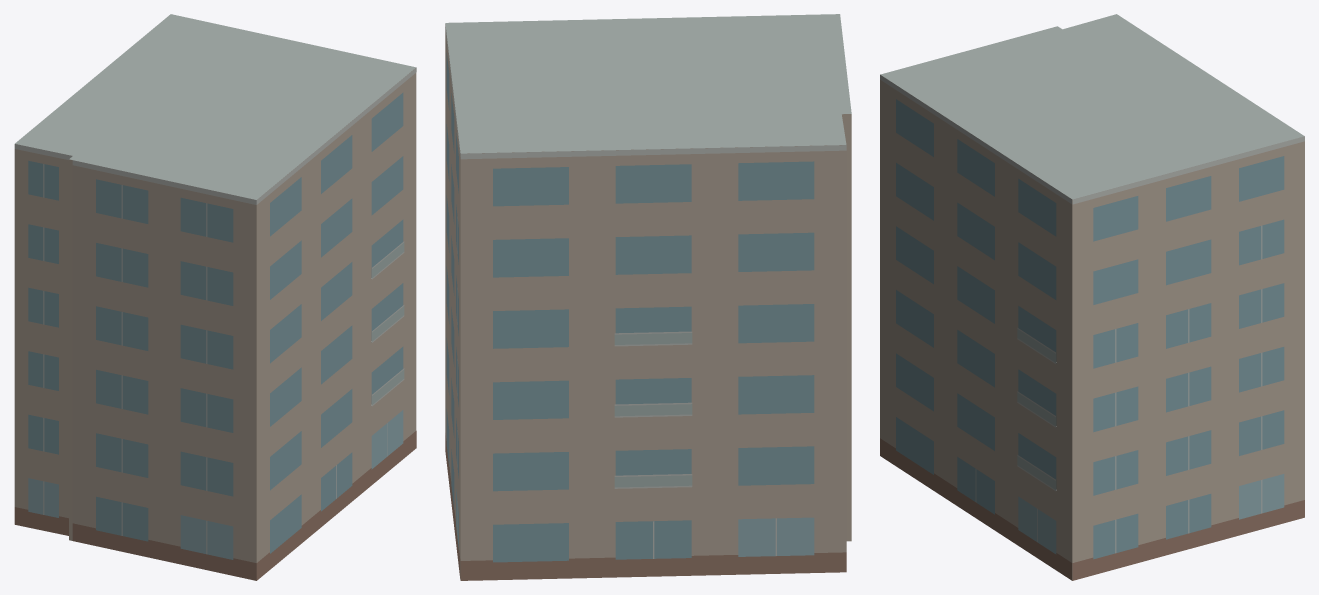
The model's file is survey-upis-32618794.glb.
3 views of the same model, side by side, from view 1: azimuth 30°, elevation 25°; view 2: azimuth 150°, elevation 25°; view 3: azimuth 270°, elevation 25° (orthographic). The views are drawn at different scales.
Visible parts, largest first — view 1: survey-upis-32618794.tmp; view 2: survey-upis-32618794.tmp; view 3: survey-upis-32618794.tmp.
Boxes of the visible parts, x1=… form: survey-upis-32618794.tmp: x1=14, y1=14, x2=416, y2=580; survey-upis-32618794.tmp: x1=445, y1=14, x2=851, y2=580; survey-upis-32618794.tmp: x1=880, y1=14, x2=1304, y2=580.
Bounding box in the file's own units: 19.1 × 18.3 × 18.48.
